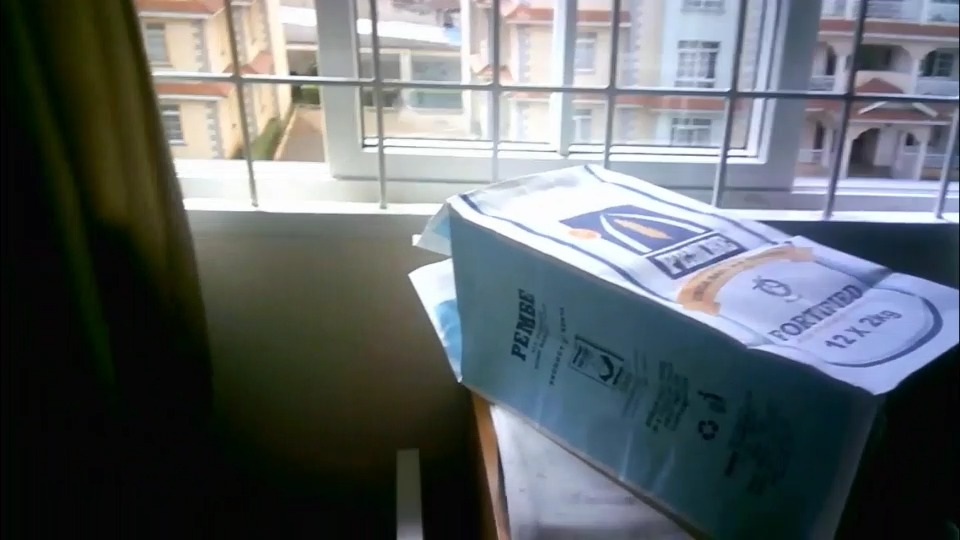wheat_flour_blue_label: (465, 172, 960, 540)
